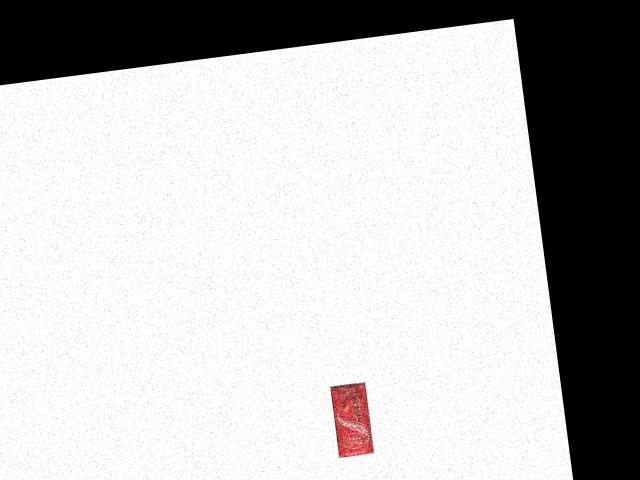chocolate: (328, 376, 376, 459)
